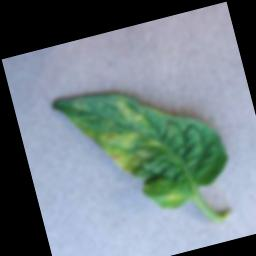Leaf_Mold: (67, 87, 170, 187), (163, 190, 185, 209)
